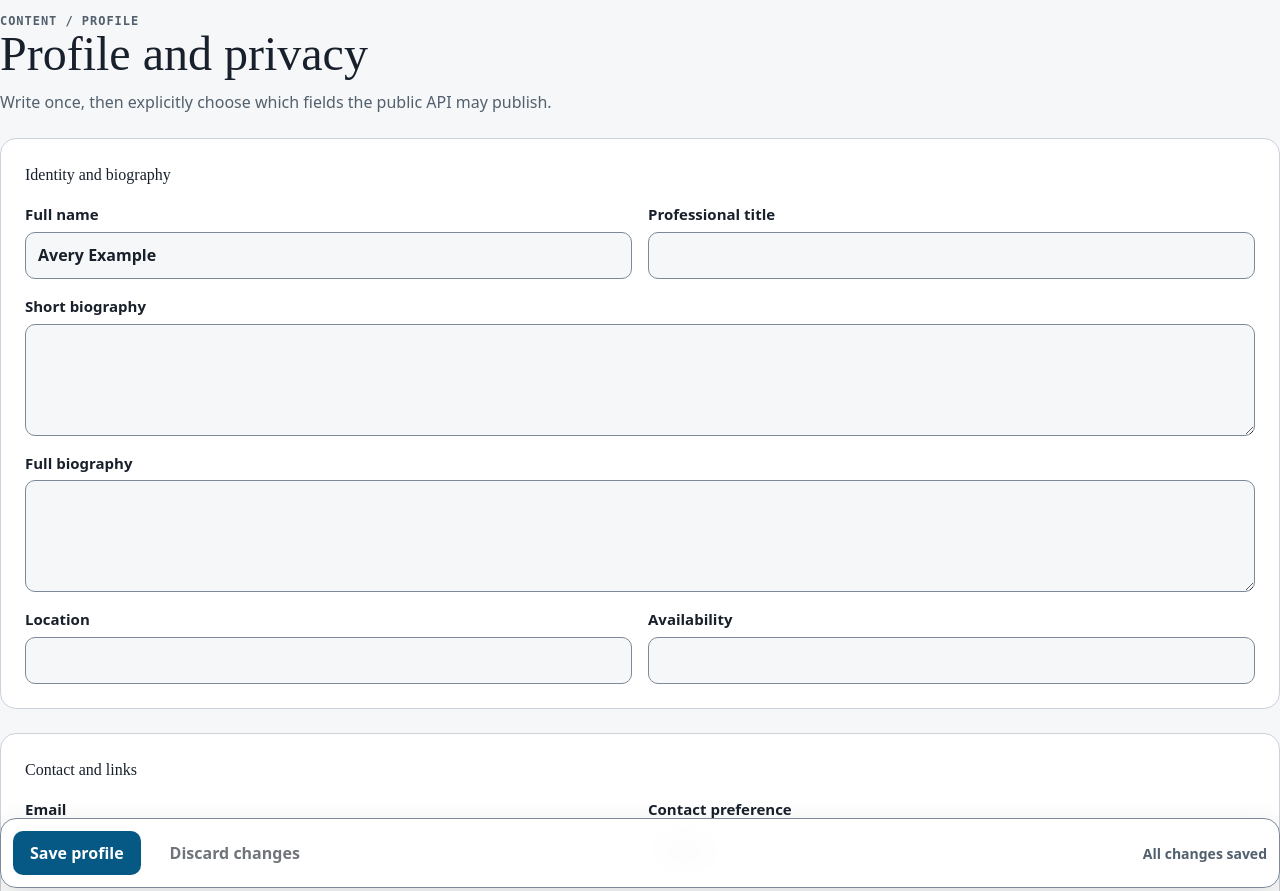
Scenario: site configuration editors › retains profile edits and offers recovery after a concurrent update conflict
This screenshot has width=1280, height=891.
Replace the text in the field labelled "Full name" with "Unsaved local edit" at [328, 255], box [25,232,632,279]
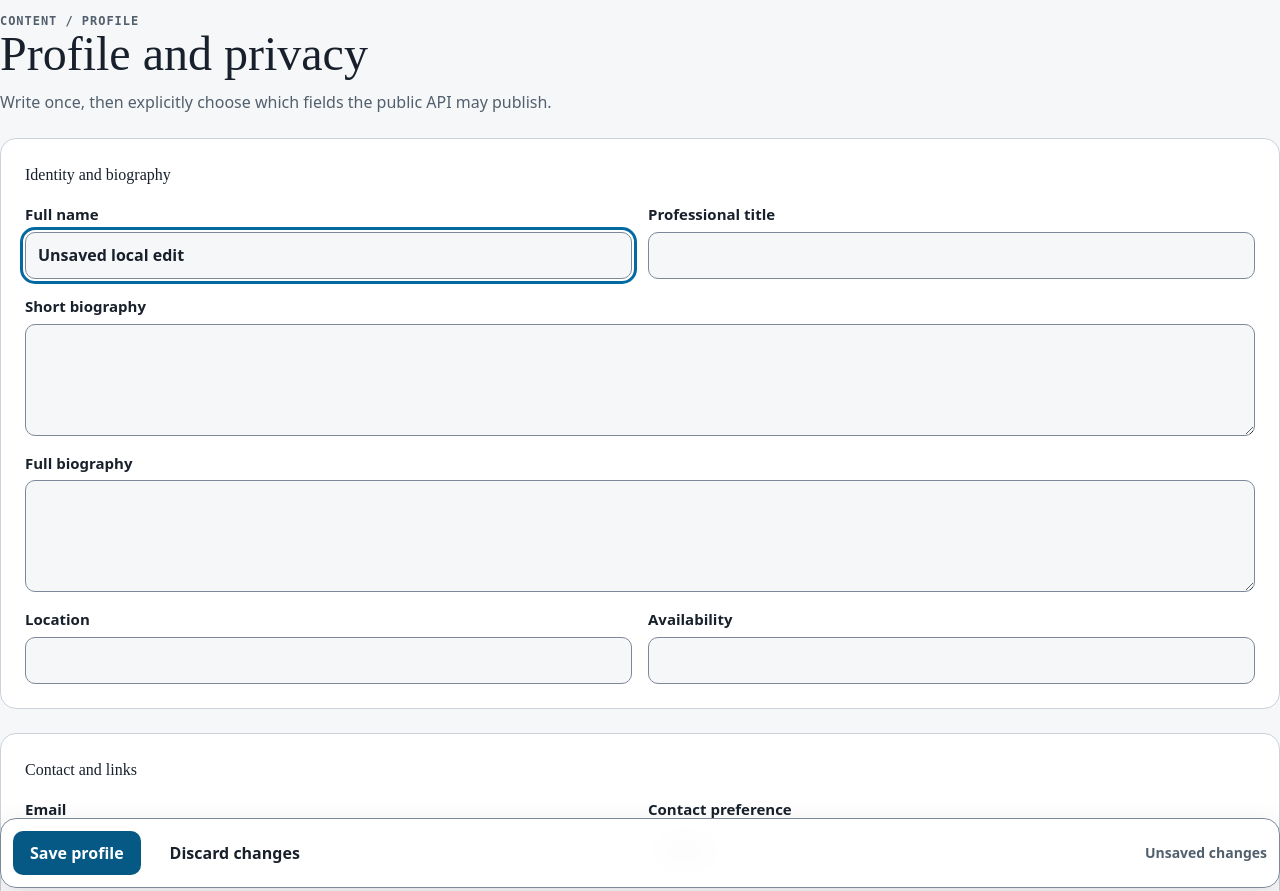
Click the button "Save profile" at [77, 853], box [13,831,141,875]
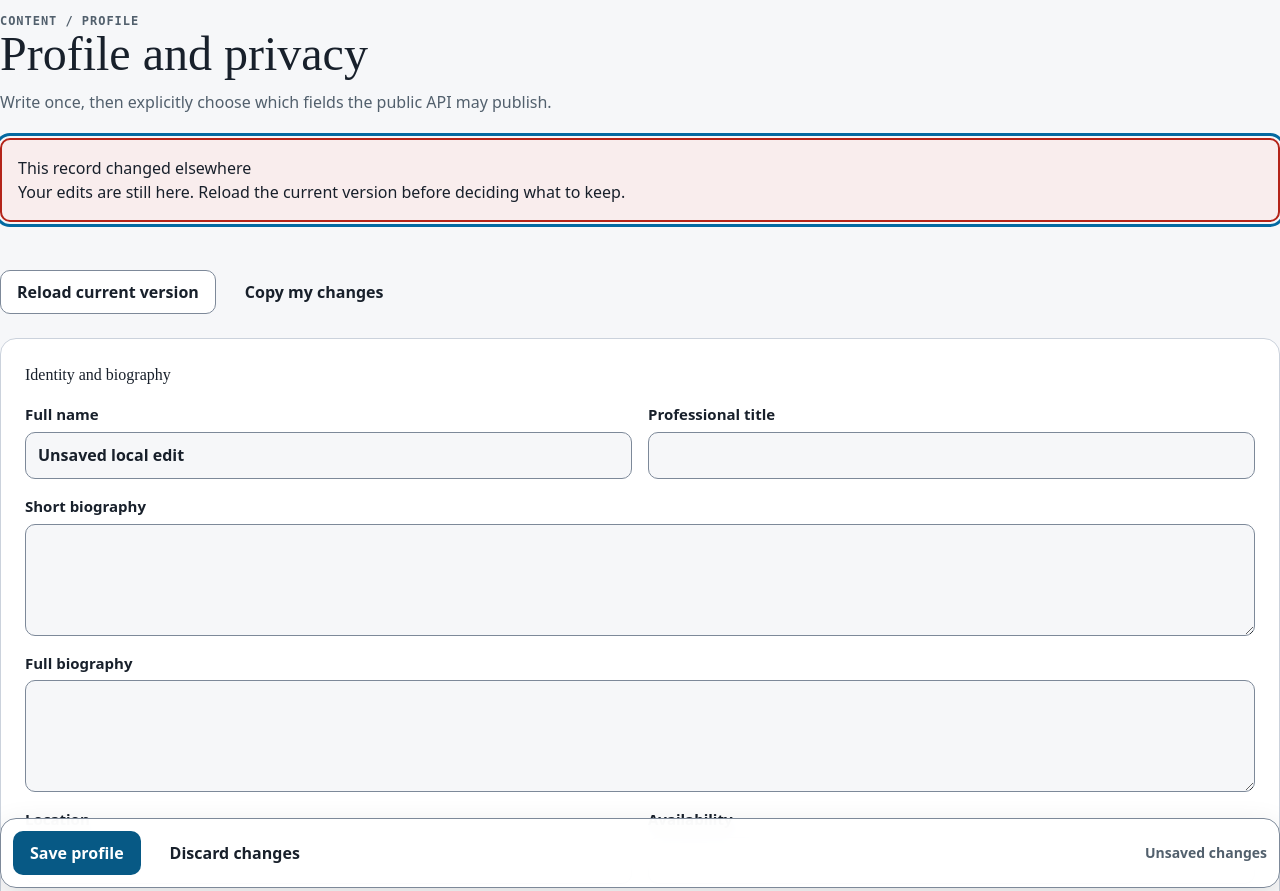
Check: the heading "This record changed elsewhere" is shown, box [18,157,251,179]
Check: the button "Reload current version" is shown, box [0,270,216,314]
